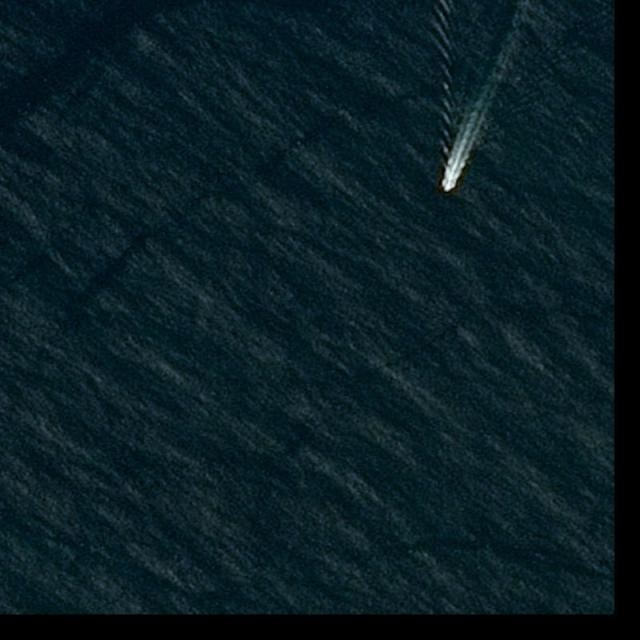ship: (445, 182, 453, 194)
